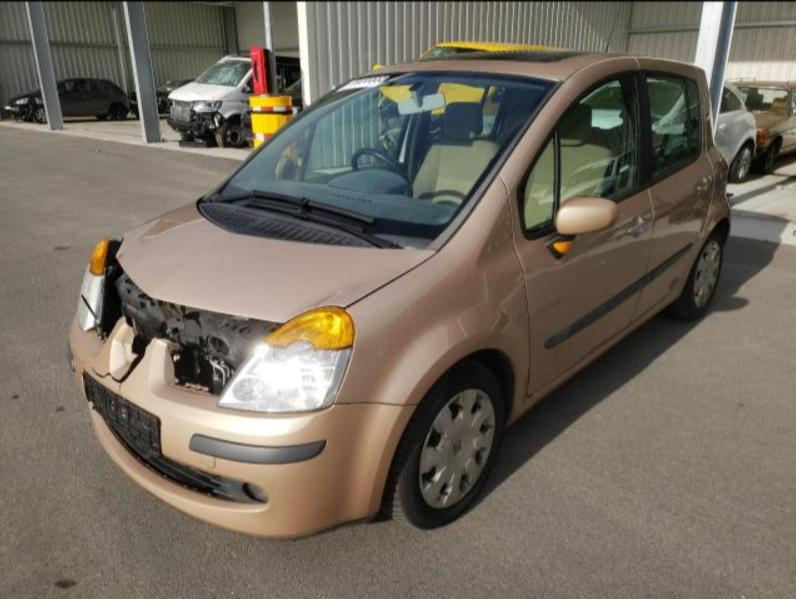Broken part: (65, 314, 417, 542), (101, 229, 128, 274)
Missing part: (100, 256, 283, 394), (84, 375, 158, 455)
